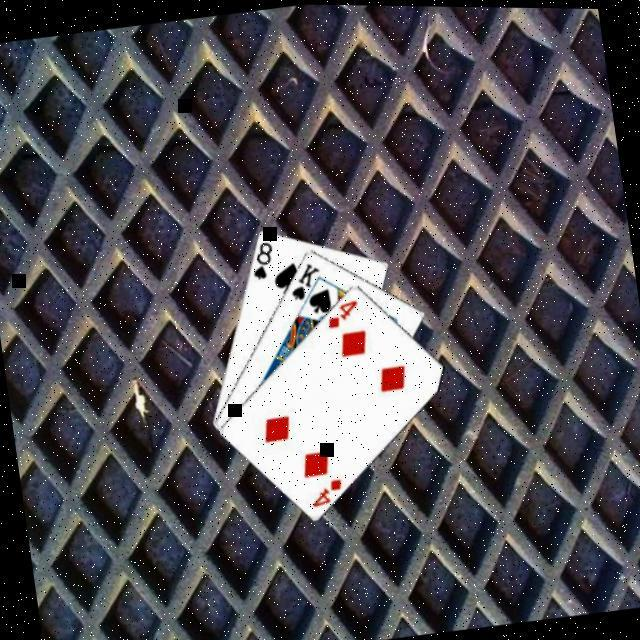4D: (323, 296, 365, 331), (306, 475, 348, 510)
8S: (247, 237, 280, 283)
KS: (286, 258, 326, 303)
